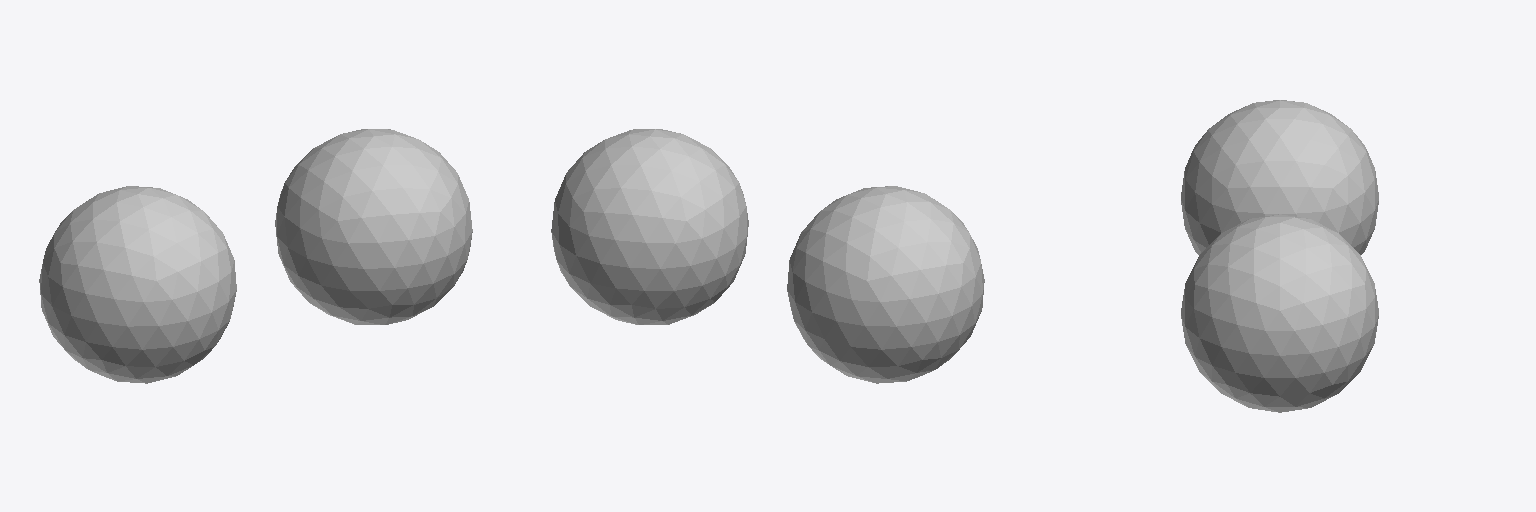
The model's file is miner man eyeballs.OBJ.
The picture shows the model from 3 angles: view 1: azimuth 30°, elevation 25°; view 2: azimuth 150°, elevation 25°; view 3: azimuth 270°, elevation 25°; orthographic projection.
Parts seen in each view (by area): view 1: Group16029; view 2: Group16029; view 3: Group16029.
Part boxes in pixels (left/top/right/bottom): Group16029: left=39, top=129, right=472, bottom=383; Group16029: left=551, top=129, right=984, bottom=383; Group16029: left=1181, top=100, right=1378, bottom=412.
Bounding box in the file's own units: 2.52 × 1.07 × 1.06.